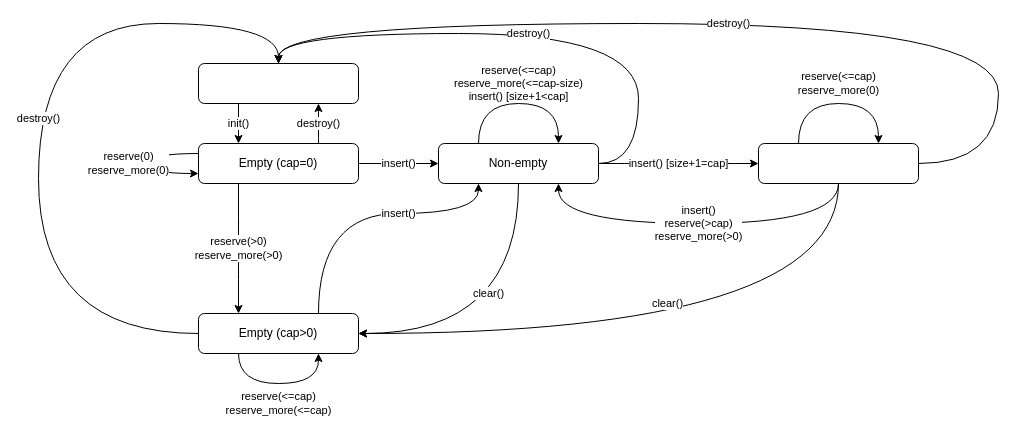
The diagram is 1016 pixels wide and 434 high, and some of its shapes have lost their labels. The centre of each missing label's shape, as x and y in pixels:
Full: the point at 838,163
Uninitialized: the point at 278,83
